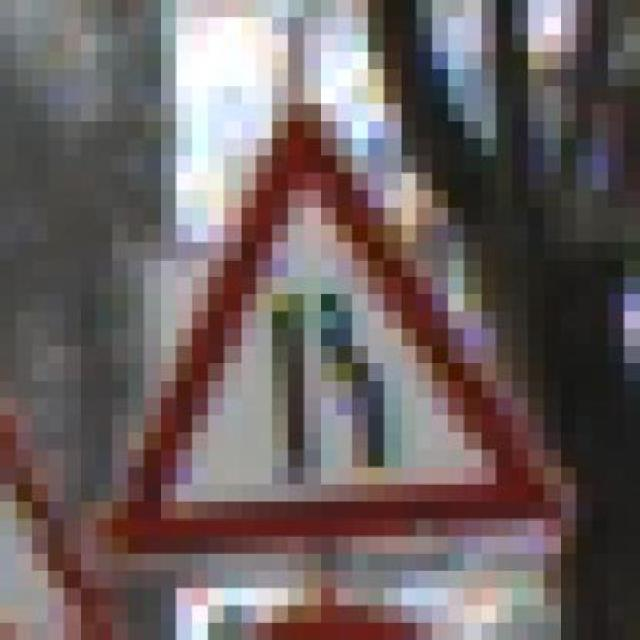-Road narrows on right: (49, 86, 576, 571)
